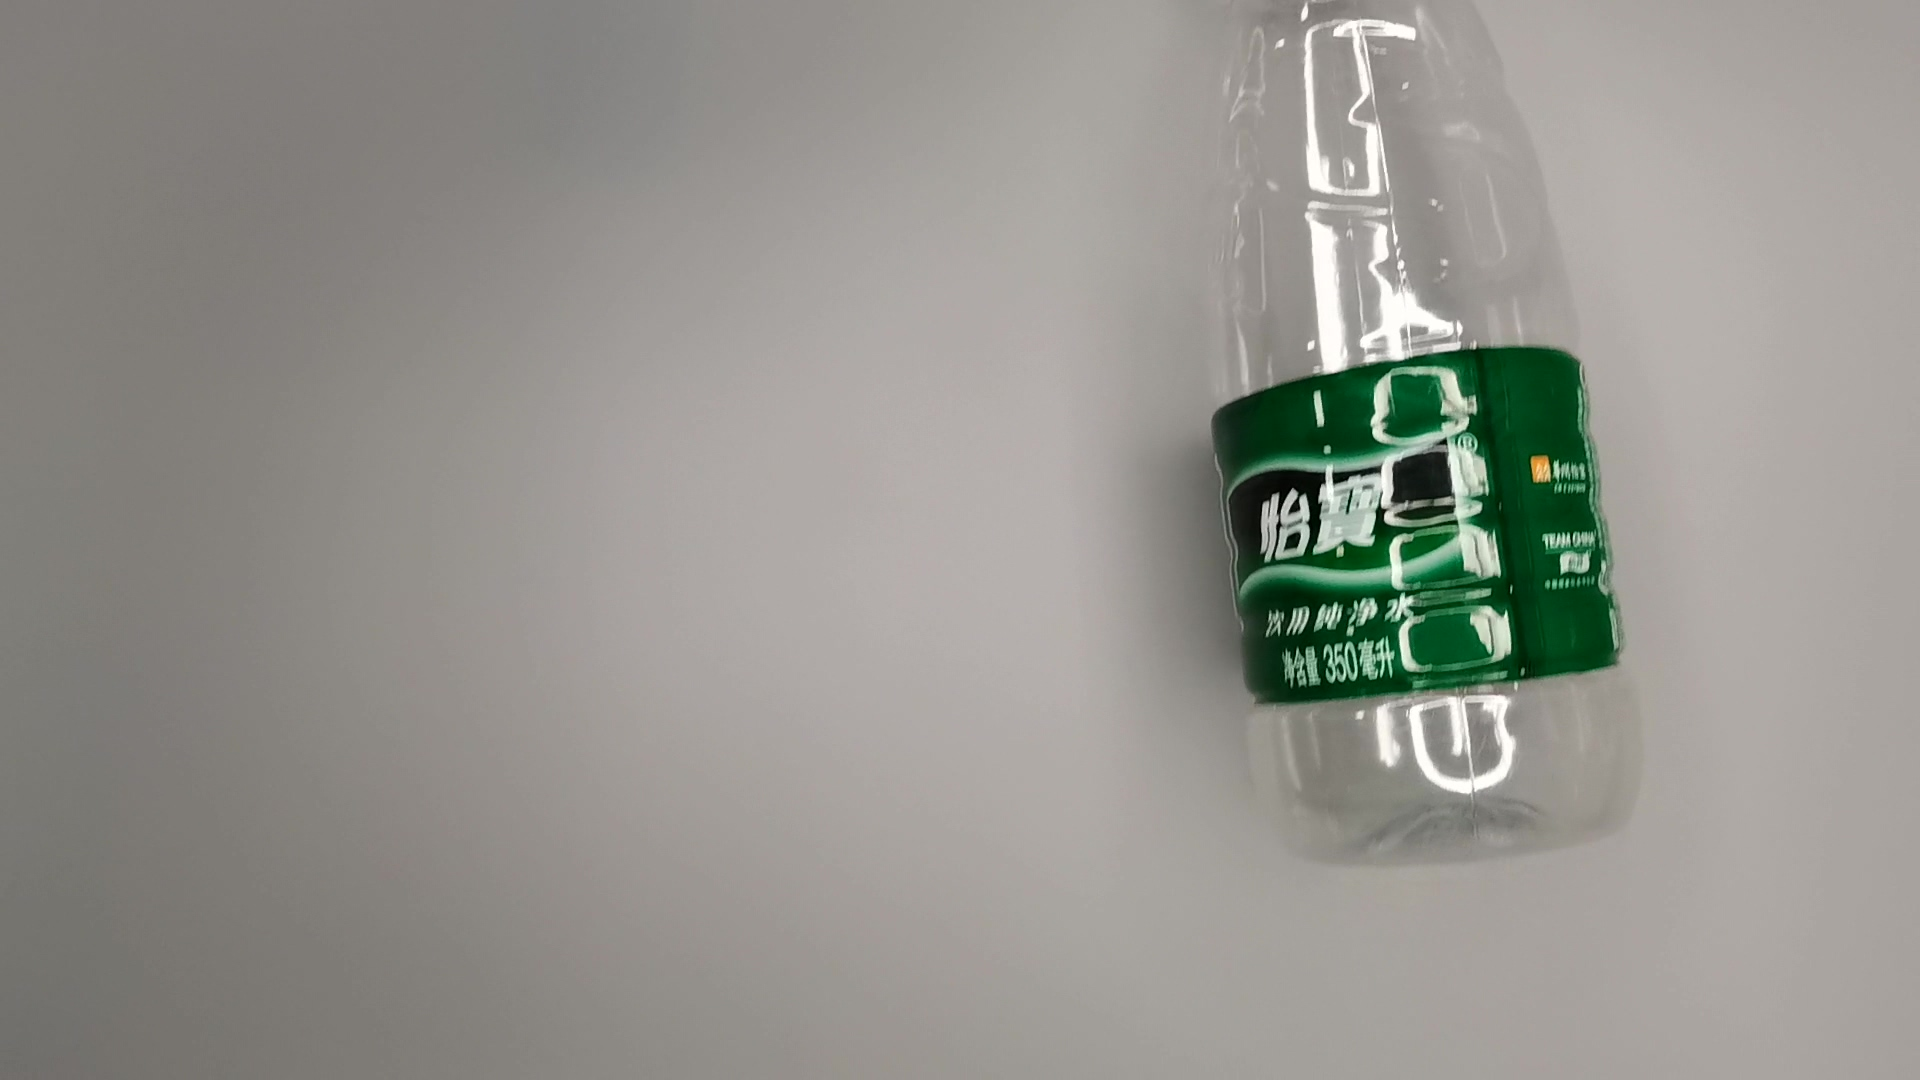bottle: (1200, 1, 1660, 872)
